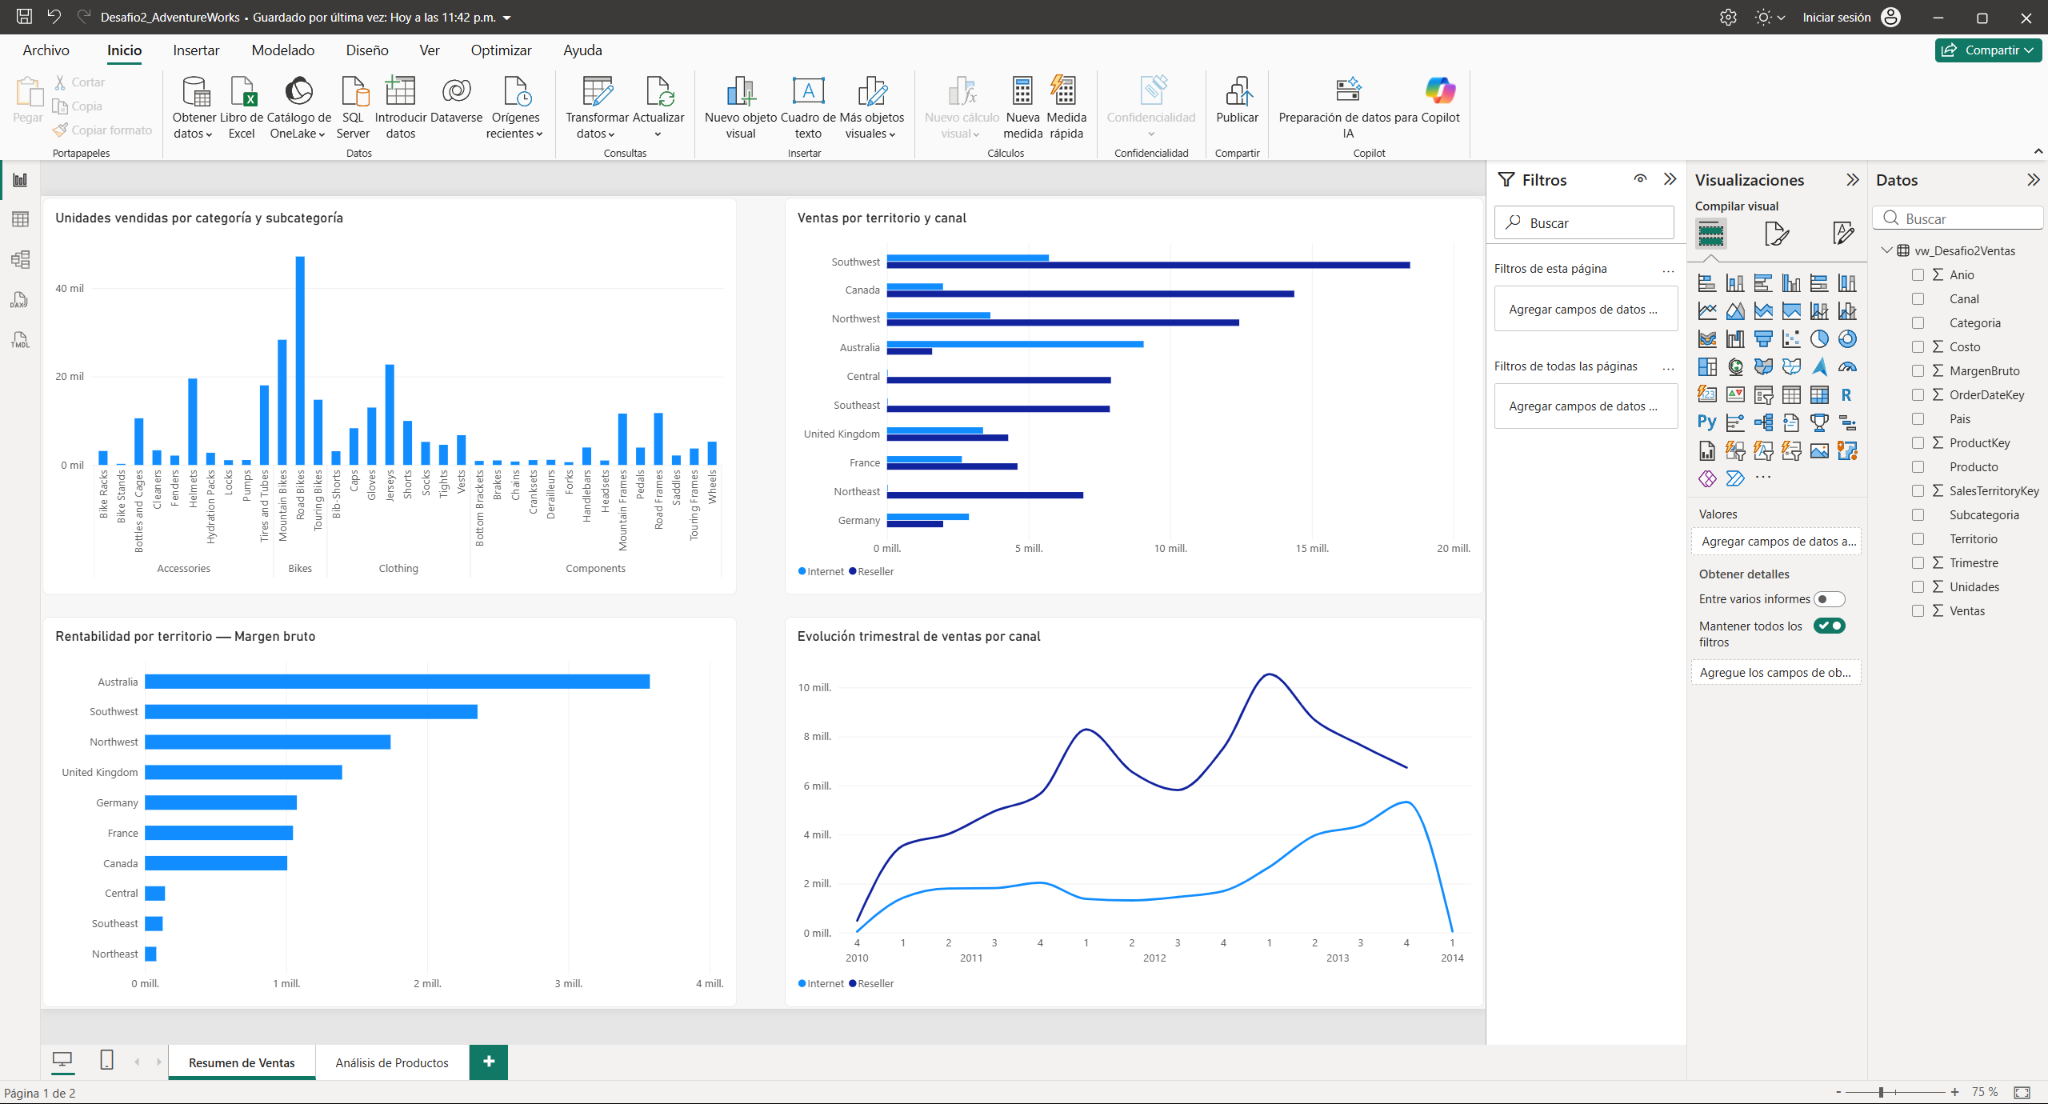

What the dashboard file says about the page in this screenshot:
{"tool":"powerbi","page":{"name":"Resumen de Ventas","canvas":[1920,1080],"ordinal":0},"visuals":[{"type":"clusteredColumnChart","title":"Unidades vendidas por categoría y subcategoría","fields":{"Category":["vw_Desafio2Ventas.Categoria","vw_Desafio2Ventas.Subcategoria"],"Y":["Sum(vw_Desafio2Ventas.Unidades)"]},"box":[2.7,2.7,922.3,527.6],"z":0},{"type":"clusteredBarChart","title":"Ventas por territorio y canal","fields":{"Category":["vw_Desafio2Ventas.Territorio"],"Series":["vw_Desafio2Ventas.Canal"],"Y":["Sum(vw_Desafio2Ventas.Ventas)"]},"box":[988.7,2.7,928.9,527.6],"z":1},{"type":"clusteredBarChart","title":"Rentabilidad por territorio — Margen bruto","fields":{"Category":["vw_Desafio2Ventas.Territorio"],"Y":["Sum(vw_Desafio2Ventas.MargenBruto)"]},"box":[2.7,559.5,922.3,518.3],"z":2},{"type":"lineChart","title":"Evolución trimestral de ventas por canal","fields":{"Category":["vw_Desafio2Ventas.Anio","vw_Desafio2Ventas.Trimestre"],"Series":["vw_Desafio2Ventas.Canal"],"Y":["Sum(vw_Desafio2Ventas.Ventas)"]},"box":[988.7,559.5,928.9,518.3],"z":3}]}

Visuals, with their boxes on the page's 1920x1080 design canvas (x1, y1, x2, y2). These are canvas units, not pixel positions in the 2048x1104 screenshot, which may show the page scaled, cropped or inside an application window:
"Unidades vendidas por categoría y subcategoría" clusteredColumnChart: left=3, top=3, right=925, bottom=530
"Ventas por territorio y canal" clusteredBarChart: left=989, top=3, right=1918, bottom=530
"Rentabilidad por territorio — Margen bruto" clusteredBarChart: left=3, top=560, right=925, bottom=1078
"Evolución trimestral de ventas por canal" lineChart: left=989, top=560, right=1918, bottom=1078
